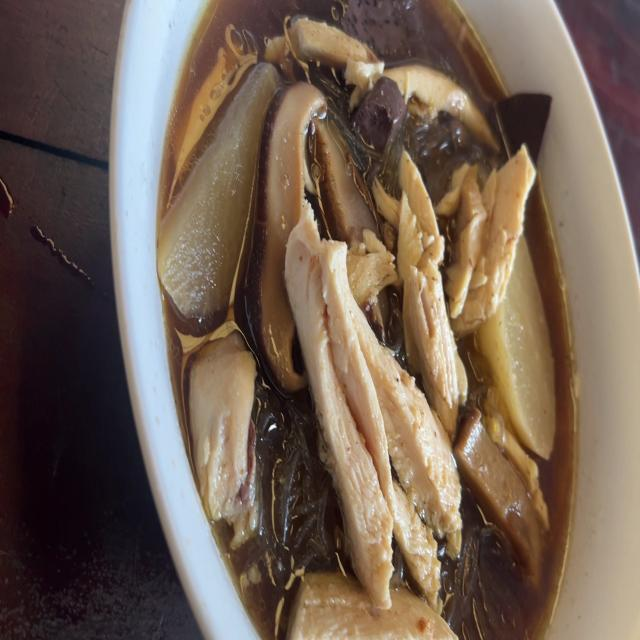boiled_chicken_blood_jelly: (345, 0, 427, 61), (501, 82, 547, 150), (361, 84, 401, 150)
chicken_shredded: (288, 226, 449, 582), (402, 155, 466, 418), (449, 154, 532, 327), (190, 345, 249, 505), (300, 584, 450, 640), (394, 59, 487, 121), (296, 16, 370, 80)
daikon_radish: (161, 55, 273, 319), (493, 262, 552, 442)
noodle: (164, 0, 573, 640)
